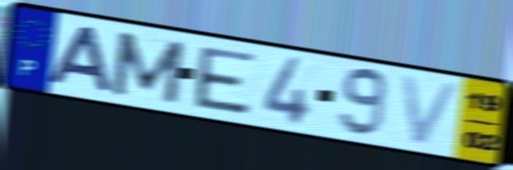4: (261, 55, 314, 128)
9: (334, 66, 390, 140)
A: (44, 24, 115, 95)
E: (193, 44, 259, 118)
M: (107, 28, 188, 107)
V: (397, 72, 465, 149)
